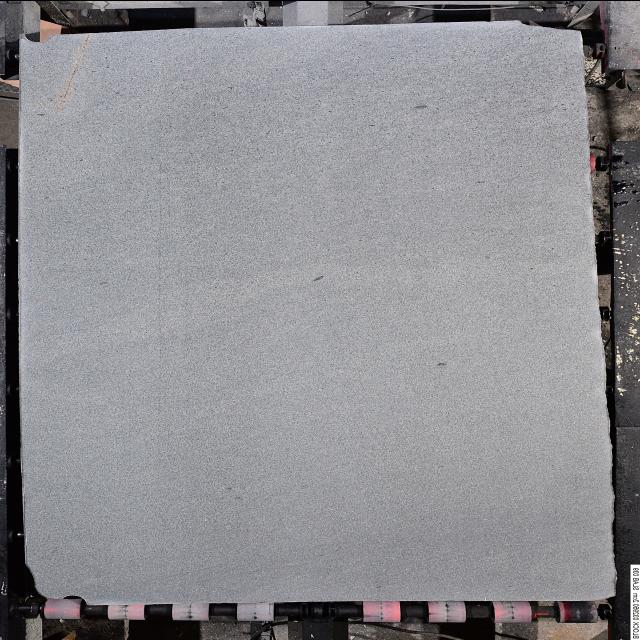chapa: (19, 22, 613, 602)
